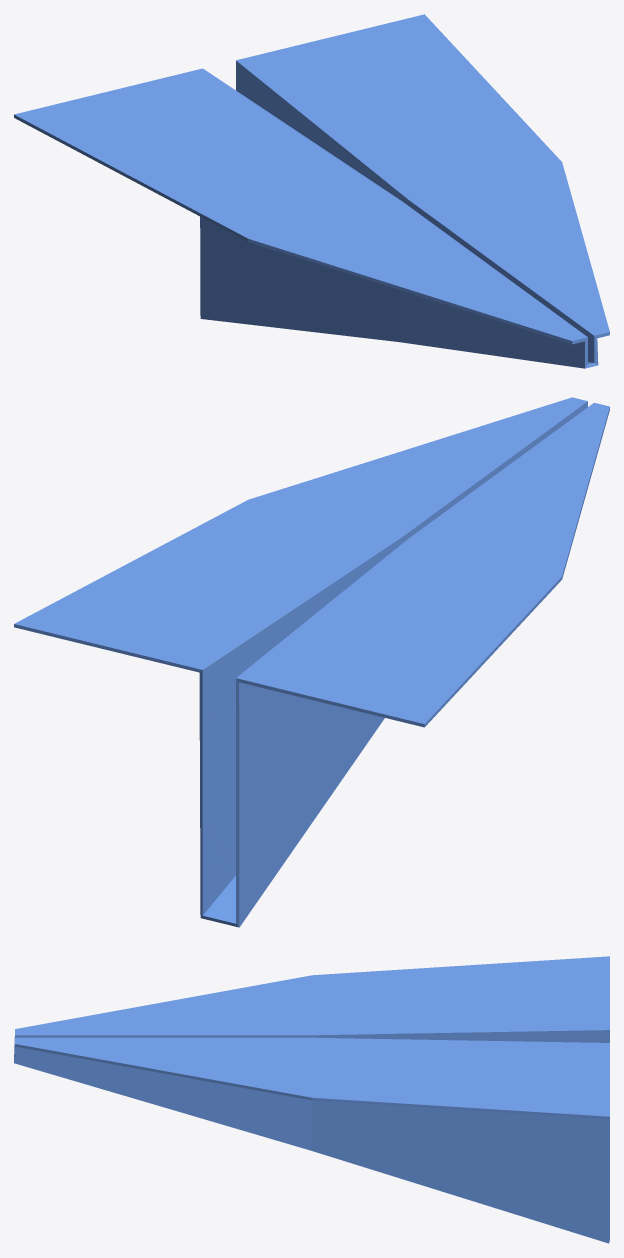
The model's file is Kite.fbx.
The picture shows the model from 3 angles, top to bottom: view 1: azimuth 30°, elevation 25°; view 2: azimuth 150°, elevation 25°; view 3: azimuth 270°, elevation 25°; orthographic projection. The views are drawn at different scales.
Parts seen in each view (by area): view 1: Kite; view 2: Kite; view 3: Kite.
Part boxes in pixels (<box>): Kite: <box>14,14,609,368</box>; Kite: <box>14,397,609,927</box>; Kite: <box>14,956,609,1243</box>.
Size of the model in its own units: 200 by 116 by 314.
